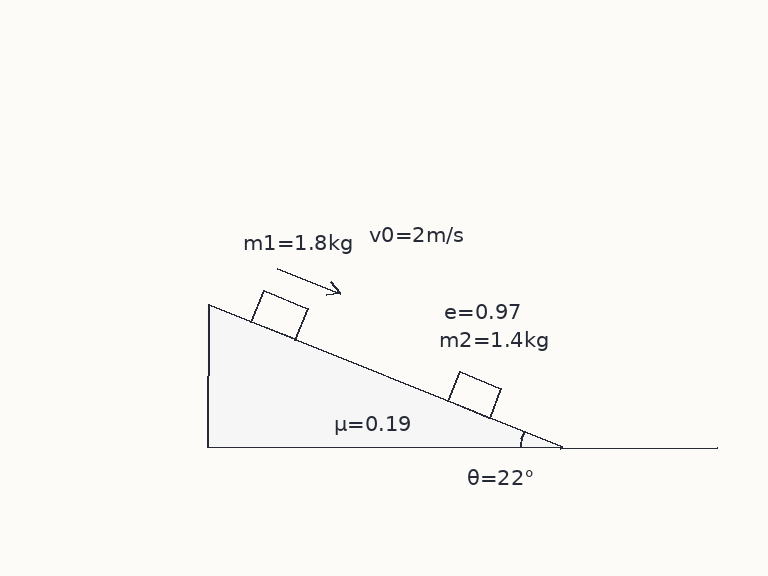block: (249, 288, 309, 341), (446, 369, 503, 420)
ramp: (206, 302, 563, 449)
